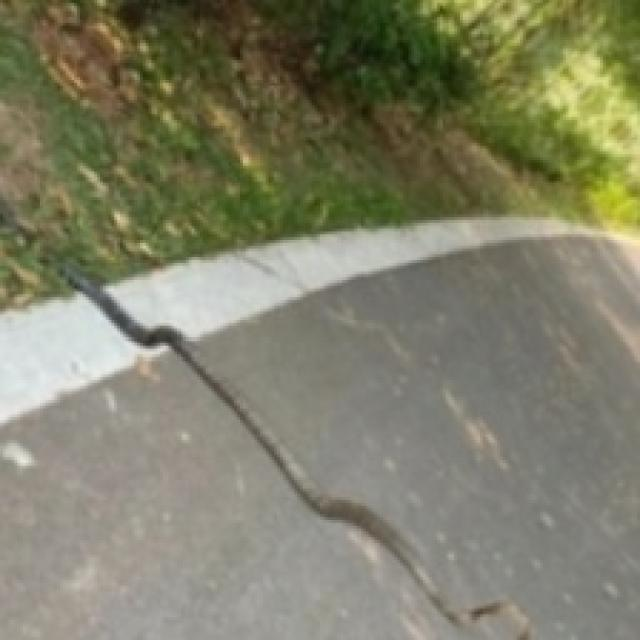king cobra: (203, 240, 574, 600), (69, 357, 449, 637)
